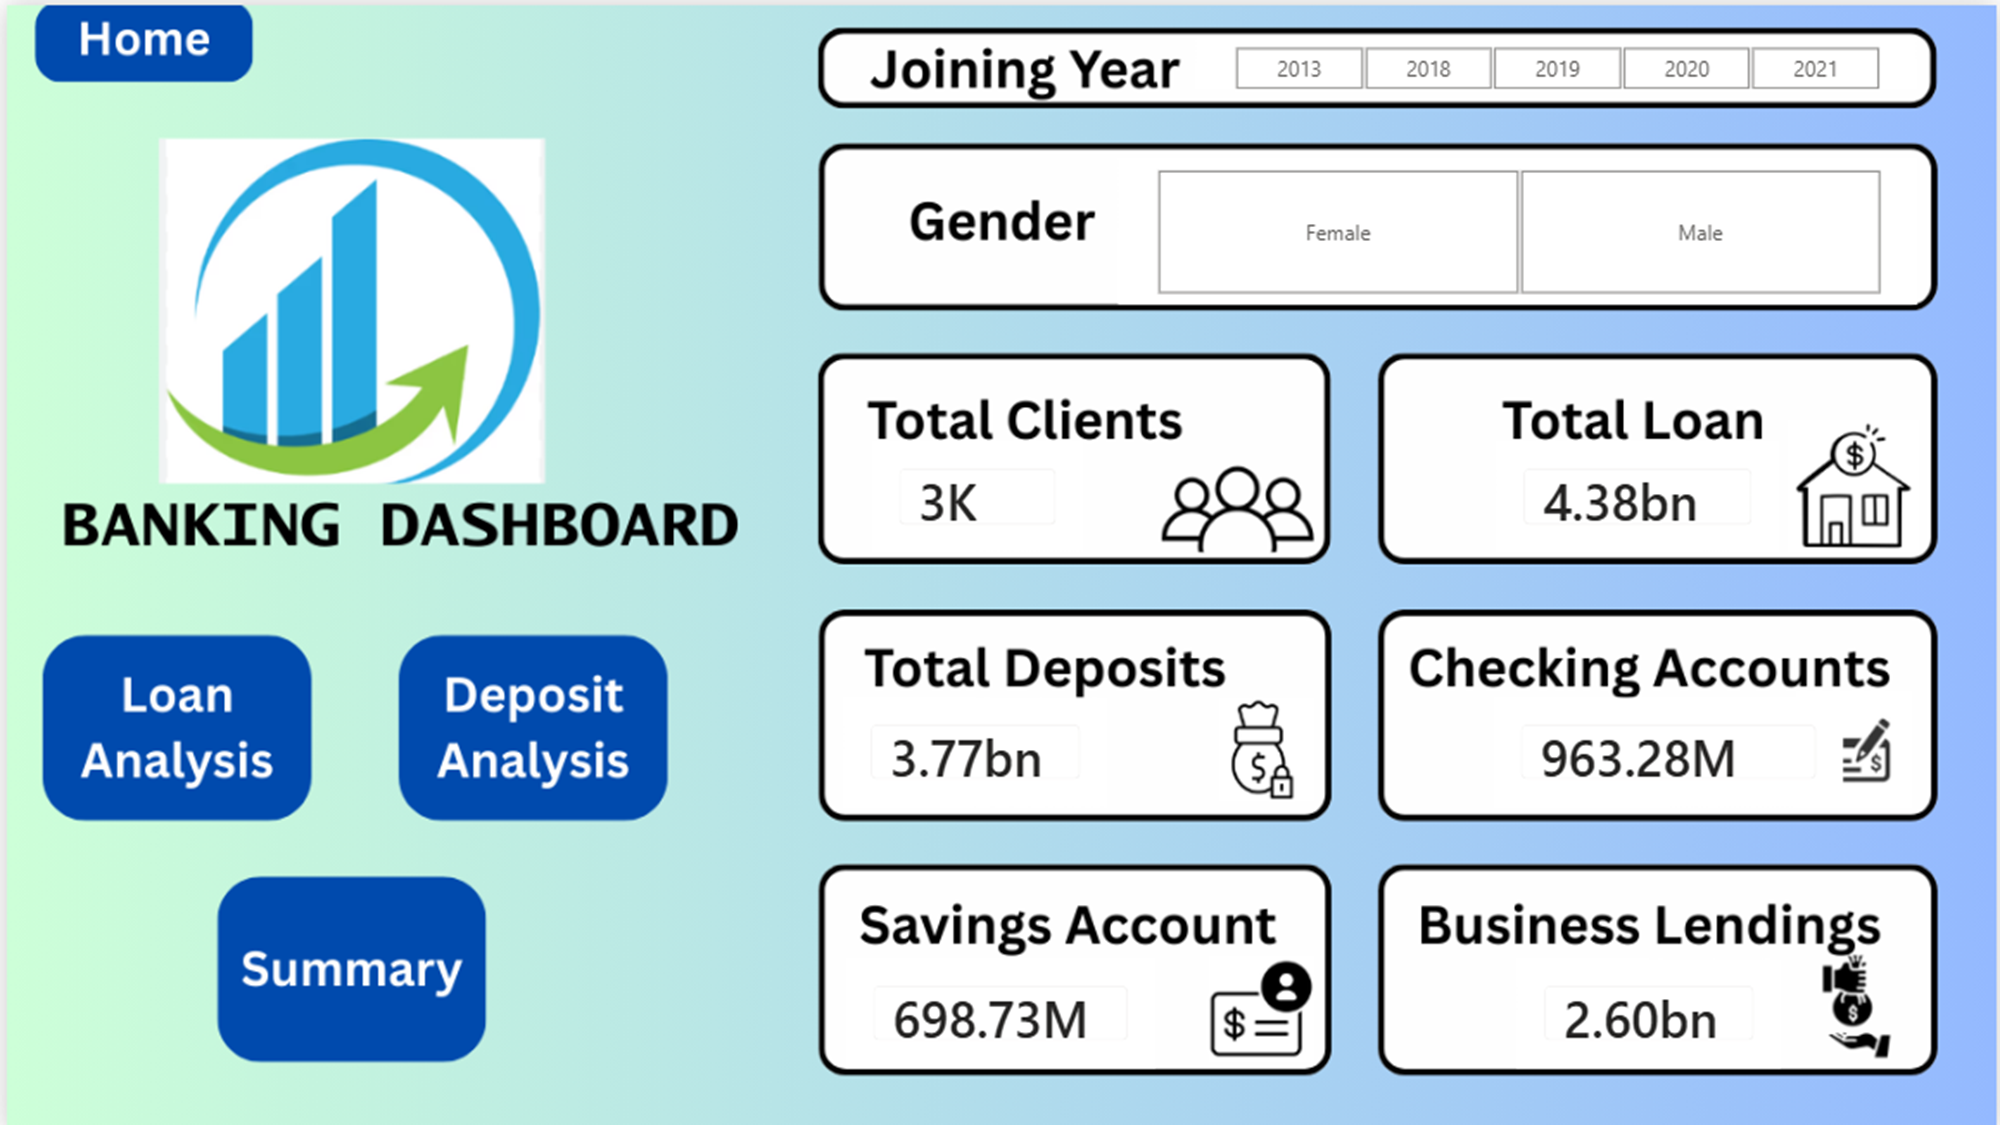

What the dashboard file says about the page in this screenshot:
{"tool":"powerbi","page":{"name":"HOME","canvas":[1280,720],"ordinal":0},"visuals":[{"type":"cardVisual","fields":{"Data":["banking_case customers.Total_clients"]},"box":[538.4,276.5,135,69.9],"z":0},{"type":"slicer","fields":{"Values":["banking_case customers.GenderId"]},"box":[714.3,98.3,514,92.6],"z":1000},{"type":"cardVisual","fields":{"Data":["banking_case customers.Total_loan"]},"box":[971.3,277.8,181.4,69.9],"z":2000},{"type":"cardVisual","fields":{"Data":["banking_case customers.Total_deposits"]},"box":[538.4,442.4,169.2,69.9],"z":3000},{"type":"slicer","fields":{"Values":["banking_case customers.year_of_joining2"]},"box":[764.5,17.9,463.6,43.9],"z":4000},{"type":"cardVisual","fields":{"Data":["Sum(banking_case customers.Business Lending)"]},"box":[971,608.3,169.2,69.9],"z":5000},{"type":"cardVisual","fields":{"Data":["Sum(banking_case customers.Saving Accounts)"]},"box":[540,608.3,198.4,69.9],"z":6000},{"type":"cardVisual","fields":{"Data":["Sum(banking_case customers.Checking Accounts)"]},"box":[956.4,442.4,224.5,69.9],"z":7000},{"type":"actionButton","box":[20.8,401.9,171.7,109.4],"z":8000},{"type":"actionButton","box":[260.4,401.9,154.7,109.4],"z":9000},{"type":"actionButton","box":[139.6,552.8,154.7,109.4],"z":10000}]}

Visuals, with their boxes in screenshot pixels (x1, y1, x2, y2), scaled from the page's 1280x720 canvas onto the 2000x1125 screenshot:
cardVisual - banking_case customers.Total_clients: bbox=(841, 432, 1052, 541)
slicer - banking_case customers.GenderId: bbox=(1116, 154, 1919, 298)
cardVisual - banking_case customers.Total_loan: bbox=(1518, 434, 1801, 543)
cardVisual - banking_case customers.Total_deposits: bbox=(841, 691, 1106, 800)
slicer - banking_case customers.year_of_joining2: bbox=(1195, 28, 1919, 97)
cardVisual - Sum(banking_case customers.Business Lending): bbox=(1517, 950, 1782, 1060)
cardVisual - Sum(banking_case customers.Saving Accounts): bbox=(844, 950, 1154, 1060)
cardVisual - Sum(banking_case customers.Checking Accounts): bbox=(1494, 691, 1845, 800)
actionButton: bbox=(32, 628, 301, 799)
actionButton: bbox=(407, 628, 649, 799)
actionButton: bbox=(218, 864, 460, 1035)
